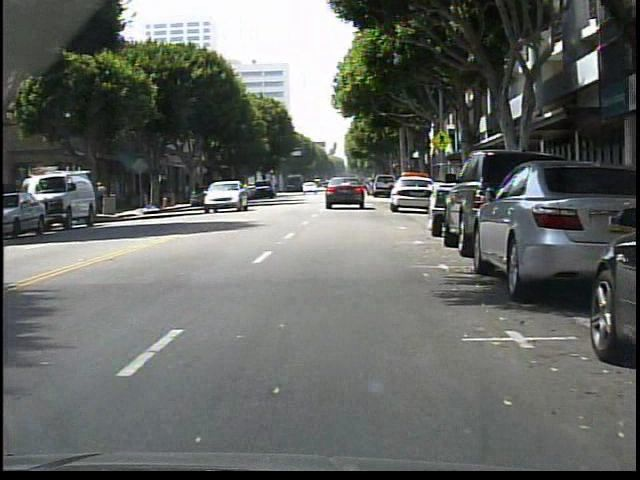person: (96, 179, 110, 197)
